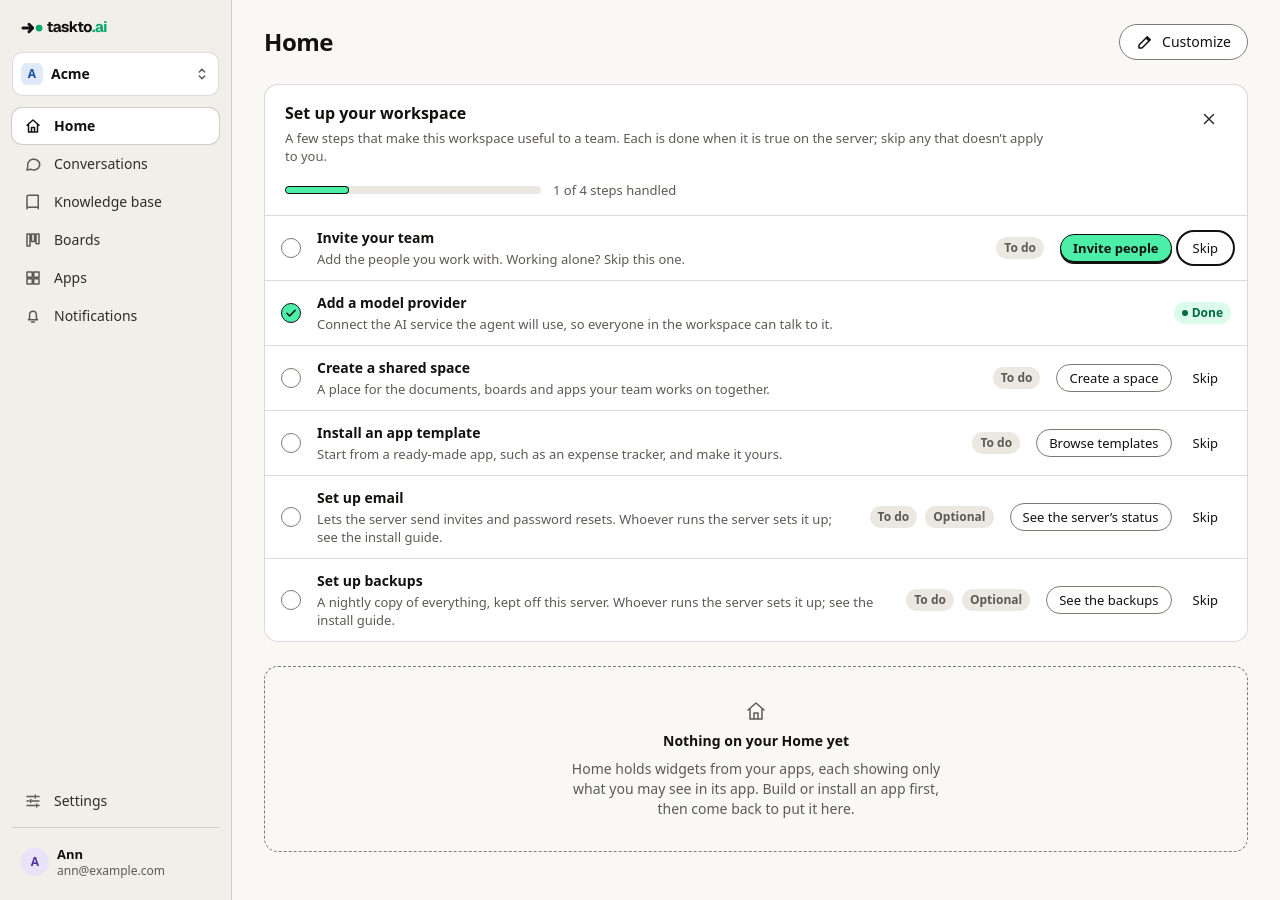
Scenario: a step that doesn’t apply is skipped and taken back, keeping the keyboard where it was
Click the button with aria-label "Skip: Invite your team": (1205, 248) [1180,234,1231,262]
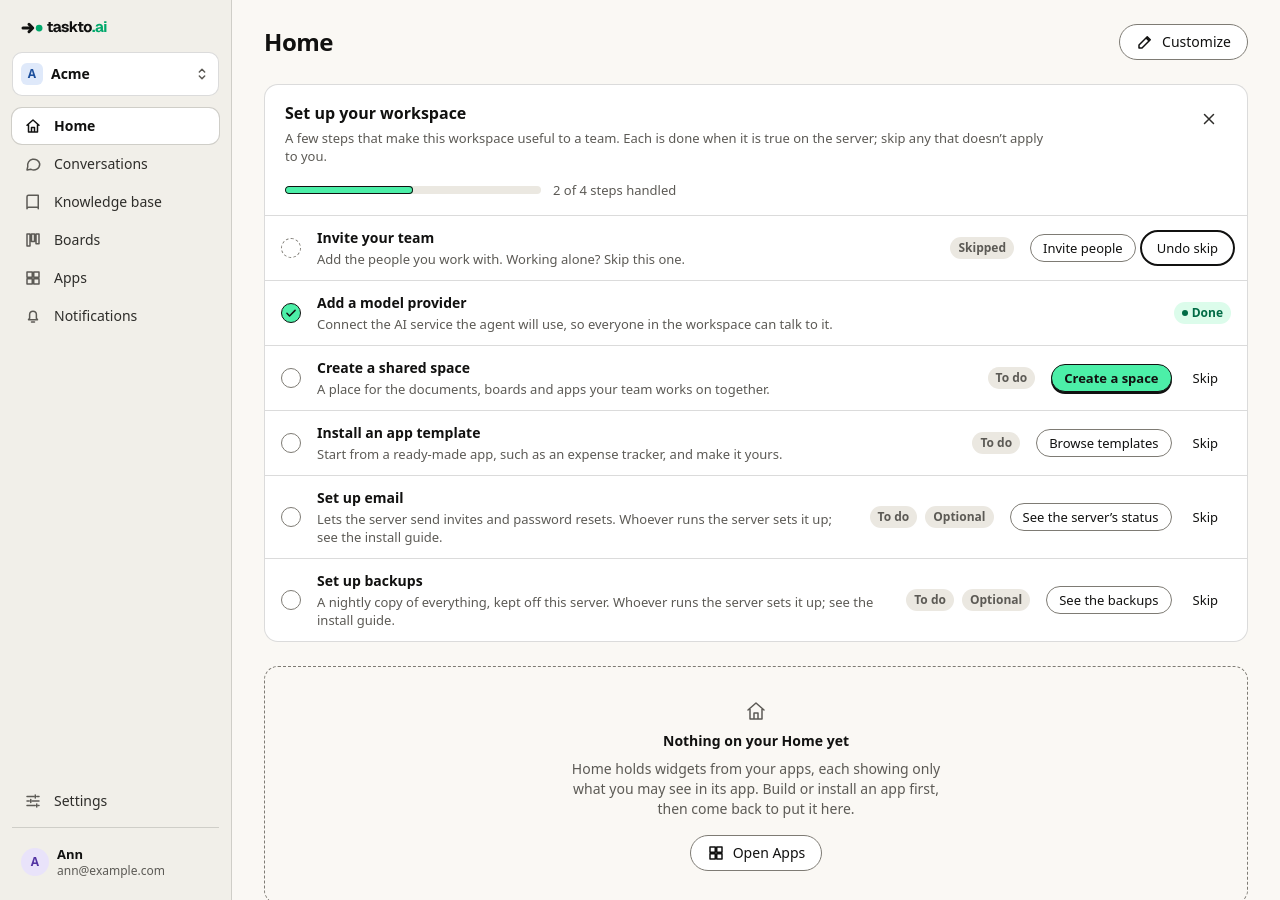
Now the message reads "2 of 4 steps handled", box [553,181,676,199]
Now the text "Skipped" is shown, box [950,237,1014,259]
Click the button with aria-label "Undo skip: Invite your team": (1187, 248) [1144,234,1231,262]
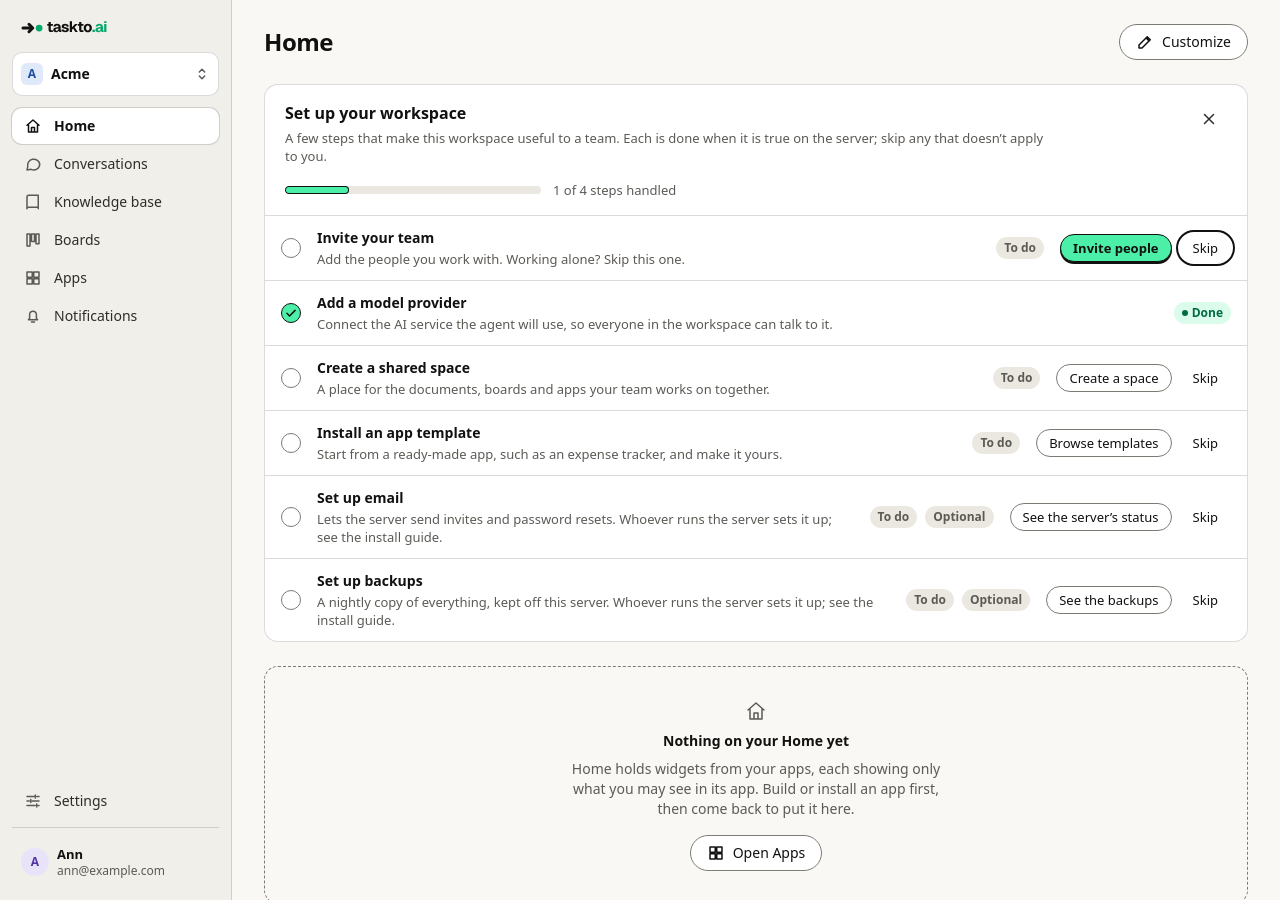
Expected: the button with aria-label "Skip: Invite your team" is shown, [1180,234,1231,262]
Now the message reads "1 of 4 steps handled", box [553,181,676,199]
